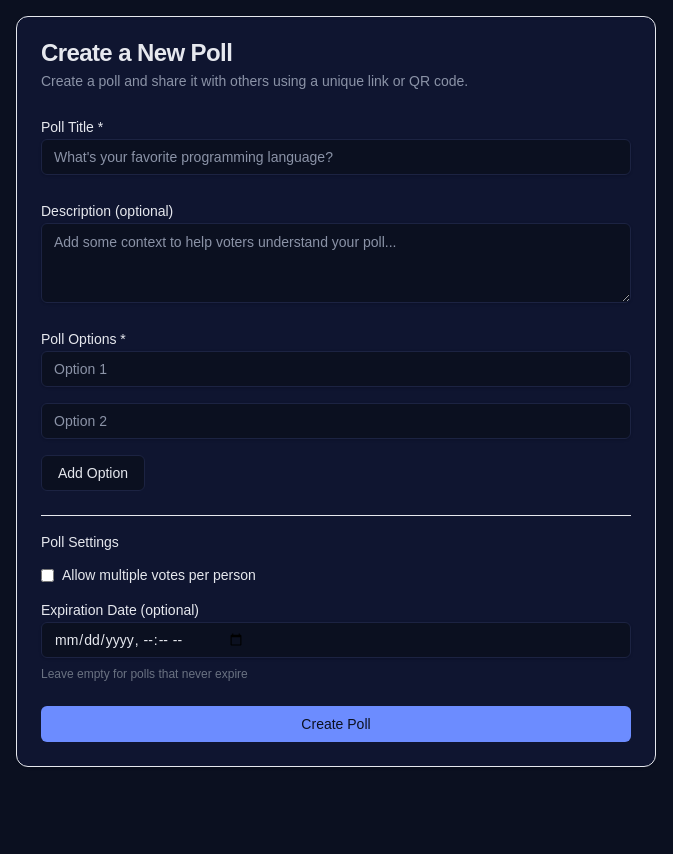
CreatePollForm › shows an error if createPoll fails
Type "My test poll" into the field labelled "Poll Title *" at (336, 157), box [41,139,631,175]
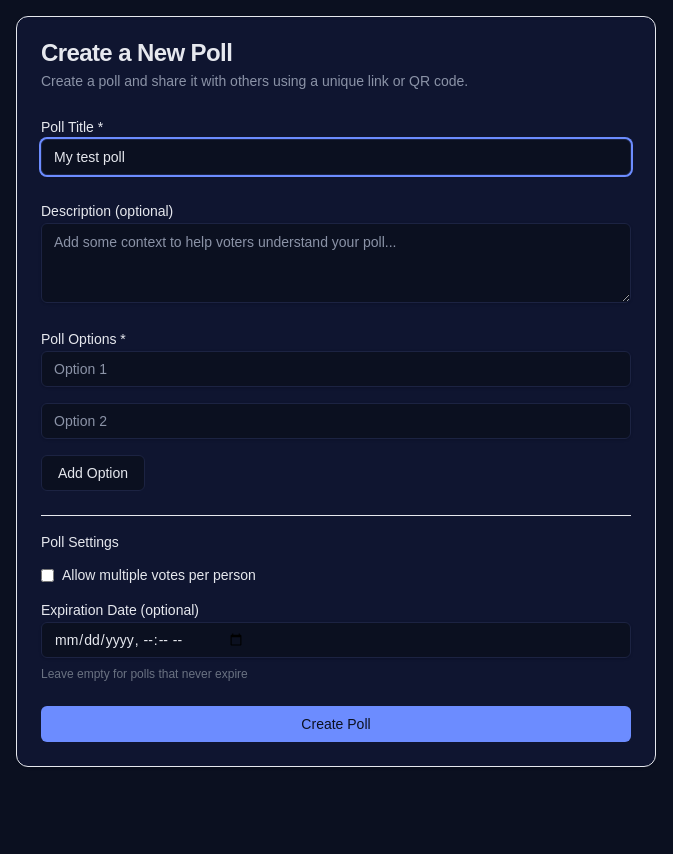
Type "Option A" into the field with placeholder "Option 1" at (336, 369), box [41,351,631,387]
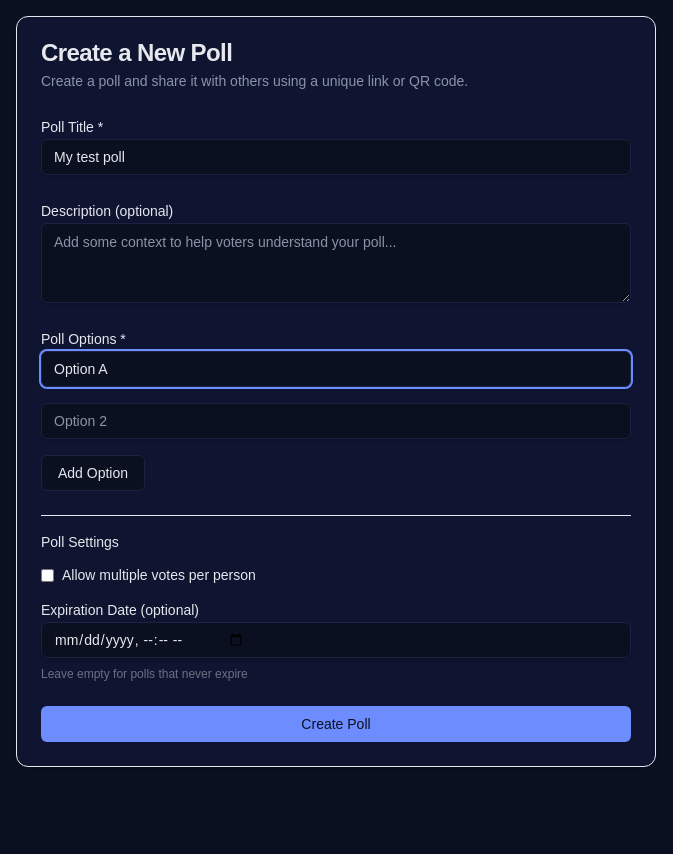
Type "Option B" into the field with placeholder "Option 2" at (336, 421), box [41,403,631,439]
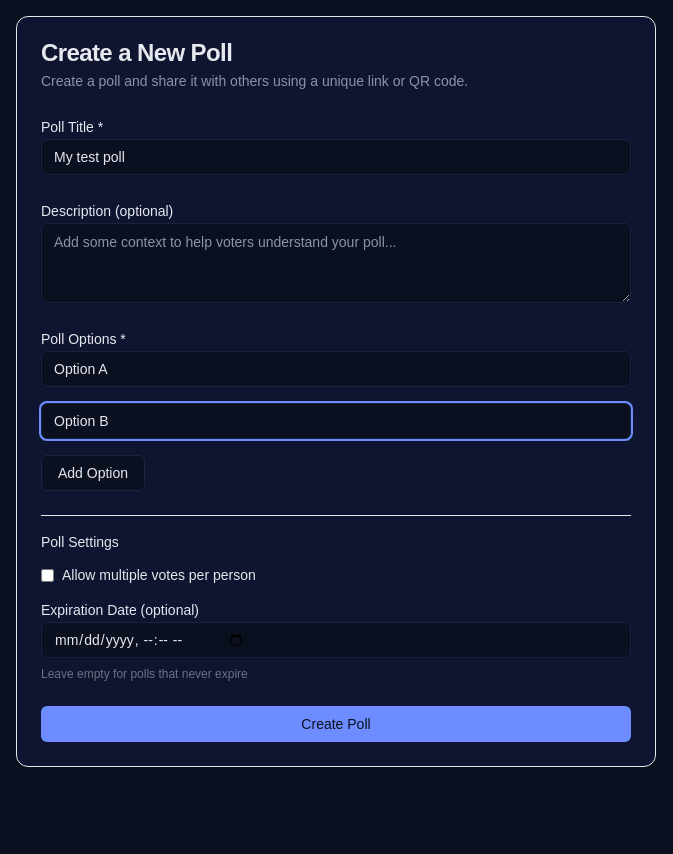
Click the button "Create Poll" at (336, 724), box [41,706,631,742]
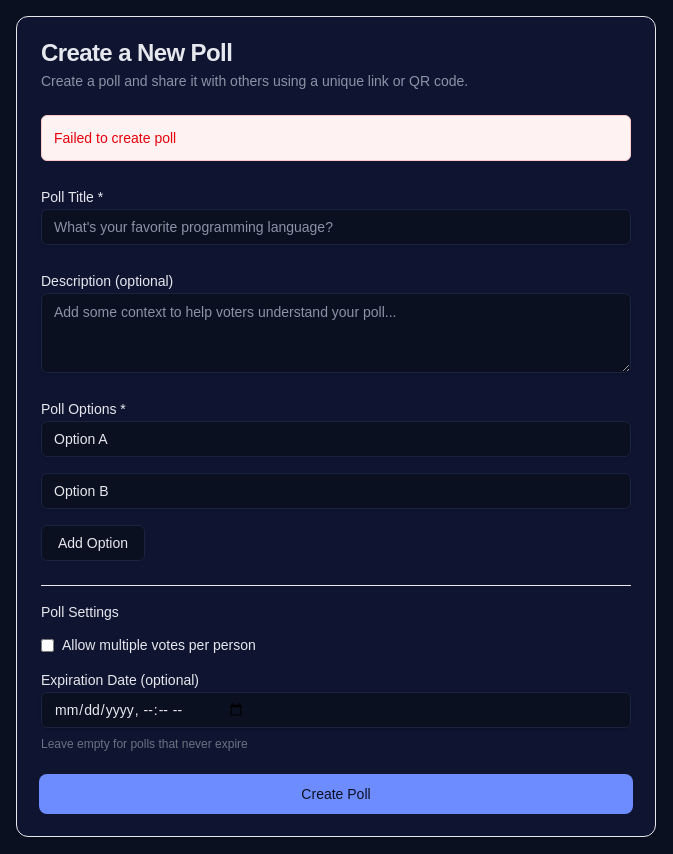
Expected: the text "Failed to create poll" is shown, [41,115,631,161]
